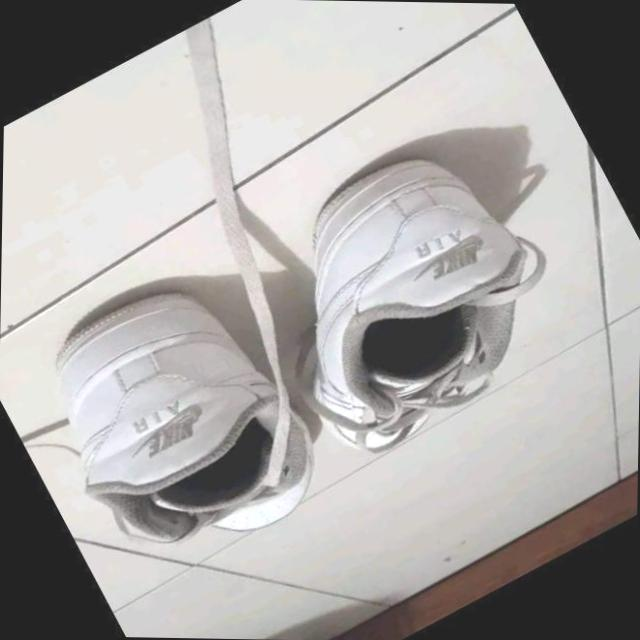nike_original_airforce: (221, 114, 592, 477), (0, 248, 341, 588)
